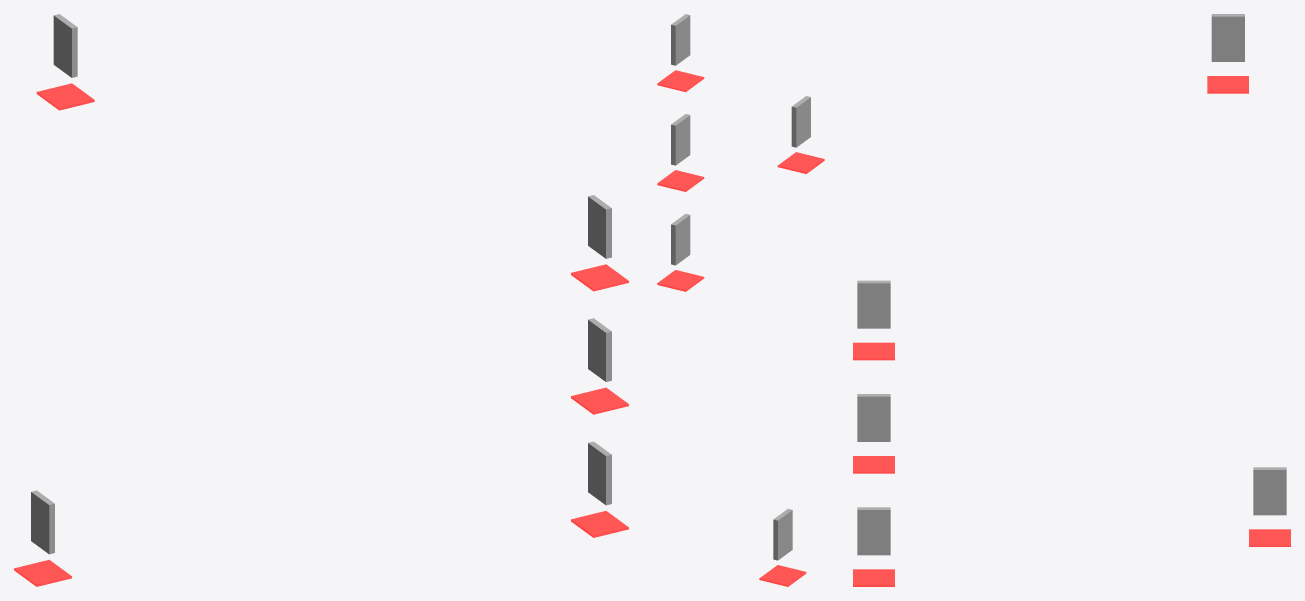
Rendered from ElectricalPanel_Spark.fbx.
3 renders of one model, left to right at view 1: azimuth 30°, elevation 25°; view 2: azimuth 150°, elevation 25°; view 3: azimuth 270°, elevation 25°, orthographic. The views are drawn at different scales.
Parts seen in each view (by area): view 1: F5_Elec_Panel, F1_Elec_Panel, F2_Elec_Panel, F3_Elec_Panel, F4_Elec_Panel, F5_Elec_Glow, F1_Elec_Glow, F3_Elec_Glow, F4_Elec_Glow, F2_Elec_Glow; view 2: F1_Elec_Panel, F2_Elec_Panel, F3_Elec_Panel, F4_Elec_Panel, F5_Elec_Panel, F1_Elec_Glow, F2_Elec_Glow, F5_Elec_Glow, F4_Elec_Glow, F3_Elec_Glow; view 3: F1_Elec_Panel, F2_Elec_Panel, F4_Elec_Panel, F3_Elec_Panel, F5_Elec_Panel, F4_Elec_Glow, F1_Elec_Glow, F2_Elec_Glow, F3_Elec_Glow, F5_Elec_Glow.
Boxes of the visible parts, box(x1,y1,x2,y2) form: F5_Elec_Panel: box(53, 14, 77, 77); F1_Elec_Panel: box(31, 490, 54, 554); F2_Elec_Panel: box(588, 441, 611, 505); F3_Elec_Panel: box(588, 318, 611, 381); F4_Elec_Panel: box(588, 195, 611, 258); F5_Elec_Glow: box(36, 83, 94, 110); F1_Elec_Glow: box(14, 559, 71, 586); F3_Elec_Glow: box(571, 387, 628, 414); F4_Elec_Glow: box(571, 264, 628, 291); F2_Elec_Glow: box(571, 511, 628, 537); F1_Elec_Panel: box(773, 509, 792, 560); F2_Elec_Panel: box(671, 213, 690, 265); F3_Elec_Panel: box(671, 114, 690, 165); F4_Elec_Panel: box(671, 14, 690, 65); F5_Elec_Panel: box(791, 96, 810, 147); F1_Elec_Glow: box(759, 565, 806, 586); F2_Elec_Glow: box(657, 270, 704, 291); F5_Elec_Glow: box(777, 152, 824, 173); F4_Elec_Glow: box(657, 70, 704, 91); F3_Elec_Glow: box(657, 170, 704, 191); F1_Elec_Panel: box(1253, 467, 1286, 515); F2_Elec_Panel: box(857, 507, 890, 555); F4_Elec_Panel: box(857, 280, 890, 328); F3_Elec_Panel: box(857, 394, 890, 441); F5_Elec_Panel: box(1211, 14, 1244, 61); F4_Elec_Glow: box(853, 342, 894, 360); F1_Elec_Glow: box(1249, 529, 1290, 546); F2_Elec_Glow: box(853, 569, 894, 586); F3_Elec_Glow: box(853, 456, 894, 473); F5_Elec_Glow: box(1207, 76, 1248, 93).
Bounding box in the file's own units: 9.6 × 13.87 × 10.5.
